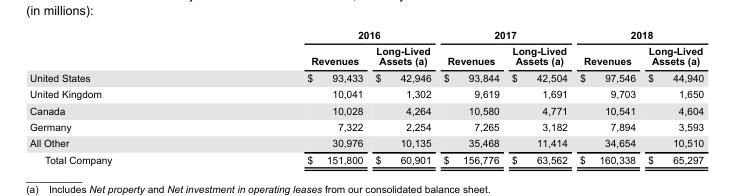table: (28, 28, 703, 164)
table column: (28, 28, 208, 164), (208, 28, 368, 164), (572, 28, 641, 164), (368, 28, 436, 164), (436, 28, 504, 164), (504, 28, 572, 164), (641, 28, 703, 164)
table column header: (28, 28, 703, 69)
table row: (28, 42, 703, 69), (28, 101, 703, 118), (28, 134, 703, 151), (28, 69, 703, 85), (28, 85, 703, 101), (28, 118, 703, 134), (28, 28, 703, 42), (28, 151, 703, 164)
table spanning cell: (208, 28, 436, 42), (436, 28, 572, 42), (572, 28, 703, 42)
